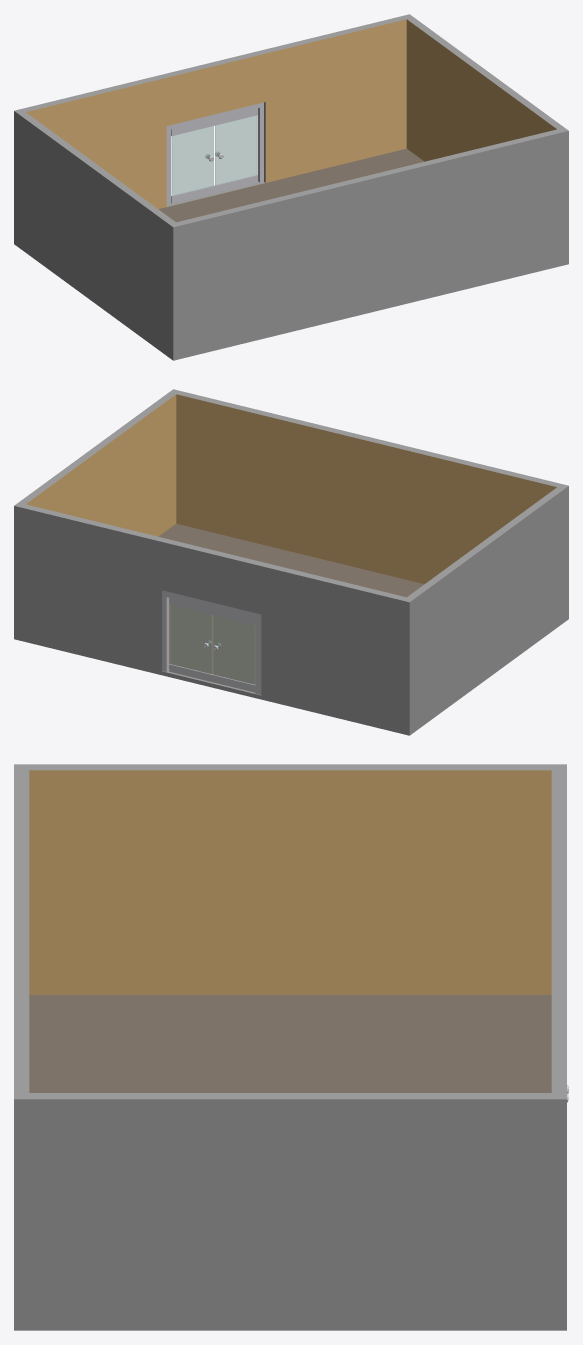
3 renders of one model, top to bottom at view 1: azimuth 30°, elevation 25°; view 2: azimuth 150°, elevation 25°; view 3: azimuth 270°, elevation 25°, orthographic. The views are drawn at different scales.
Visible parts, largest first — view 1: FloorAndWall, polySurface13, polySurface12 (×2), polySurface14, polySurface11 (×2); view 2: FloorAndWall, polySurface13, polySurface12 (×2), polySurface14, polySurface11 (×2); view 3: FloorAndWall, polySurface13.
Part boxes in pixels (x1,y1,x2,y2): FloorAndWall: (14,17,568,360); polySurface13: (14,14,413,242); polySurface12 (×2): (172,115,256,195); polySurface14: (166,102,263,205); polySurface11 (×2): (171,108,257,203); FloorAndWall: (14,389,568,735); polySurface13: (14,502,413,731); polySurface12 (×2): (170,605,254,684); polySurface14: (162,590,261,694); polySurface11 (×2): (169,598,255,692); FloorAndWall: (14,764,566,1330); polySurface13: (551,764,566,1323).
Bounding box in the file's own units: 160 × 51.55 × 112.
